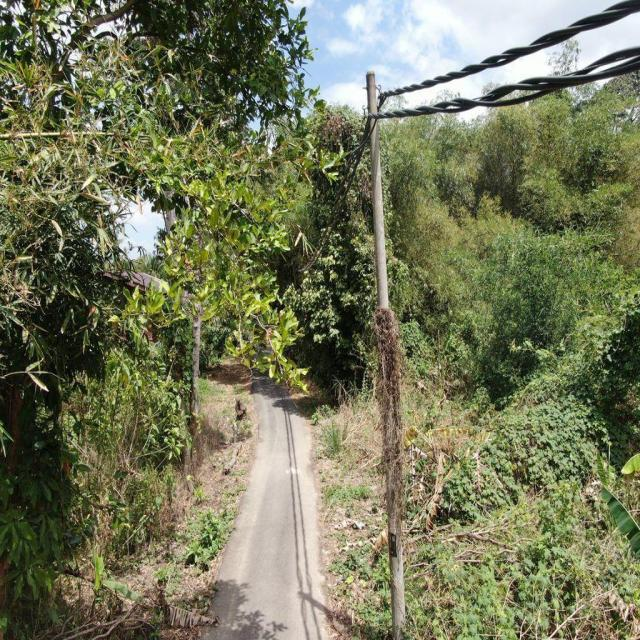light_pole: (360, 300, 418, 535)
